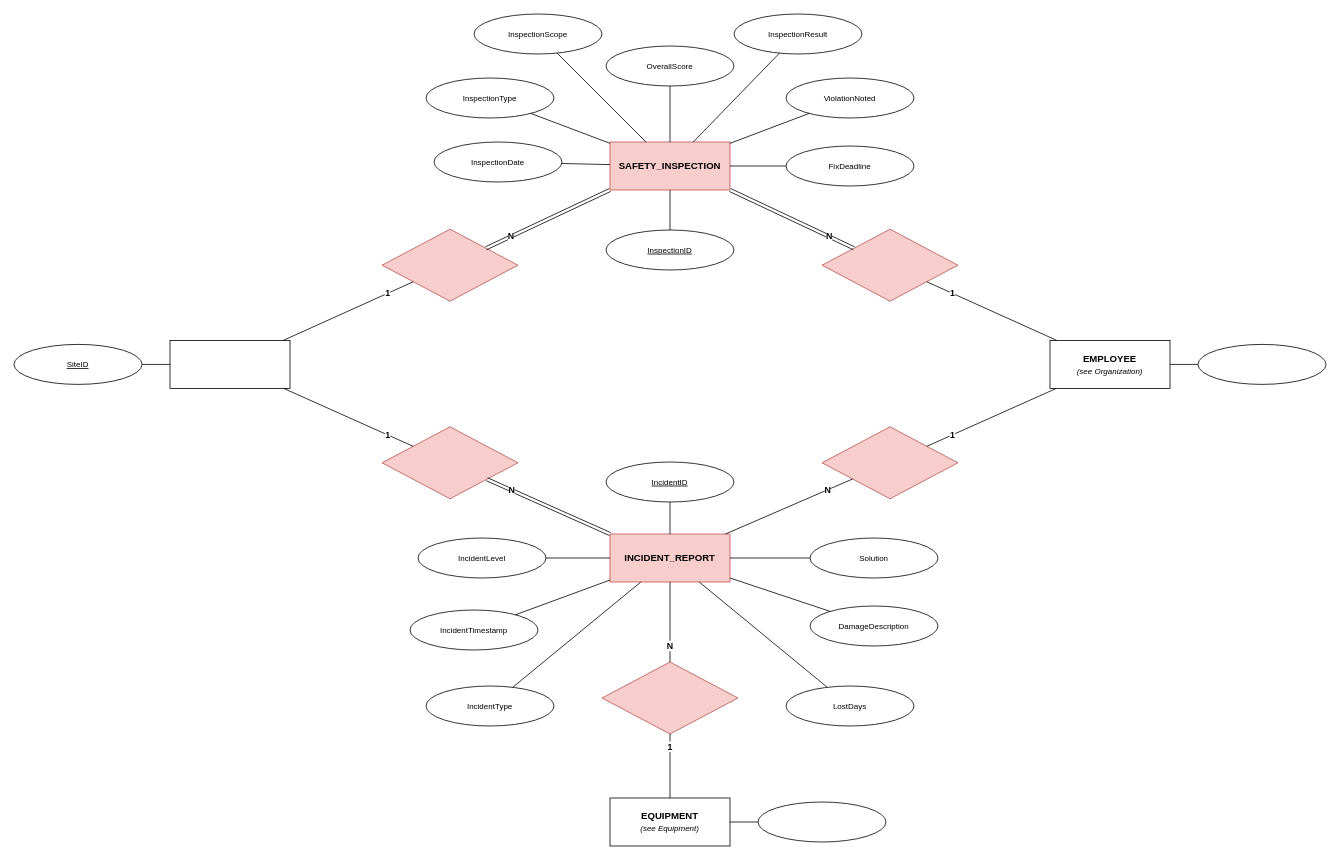
The diagram is 1340 pixels wide and 860 high, and some of its shapes have lost their labels. The shapes that lost their labels are listed below. From the top down, each one's centre as x and y in pixels, then its label:
At pixel 449 264: "HAS_ INSPECTION".
At pixel 889 264: "PERFORMS_ INSPECTION".
At pixel 229 364: "PROJECT_ SITE (see Projects)".
At pixel 1261 364: "EmpID".
At pixel 449 462: "LOGS_ INCIDENT".
At pixel 889 462: "INVOLVES_ EMPLOYEE".
At pixel 669 697: "DAMAGES_ EQUIPMENT".
At pixel 821 821: "EquipmentID".
